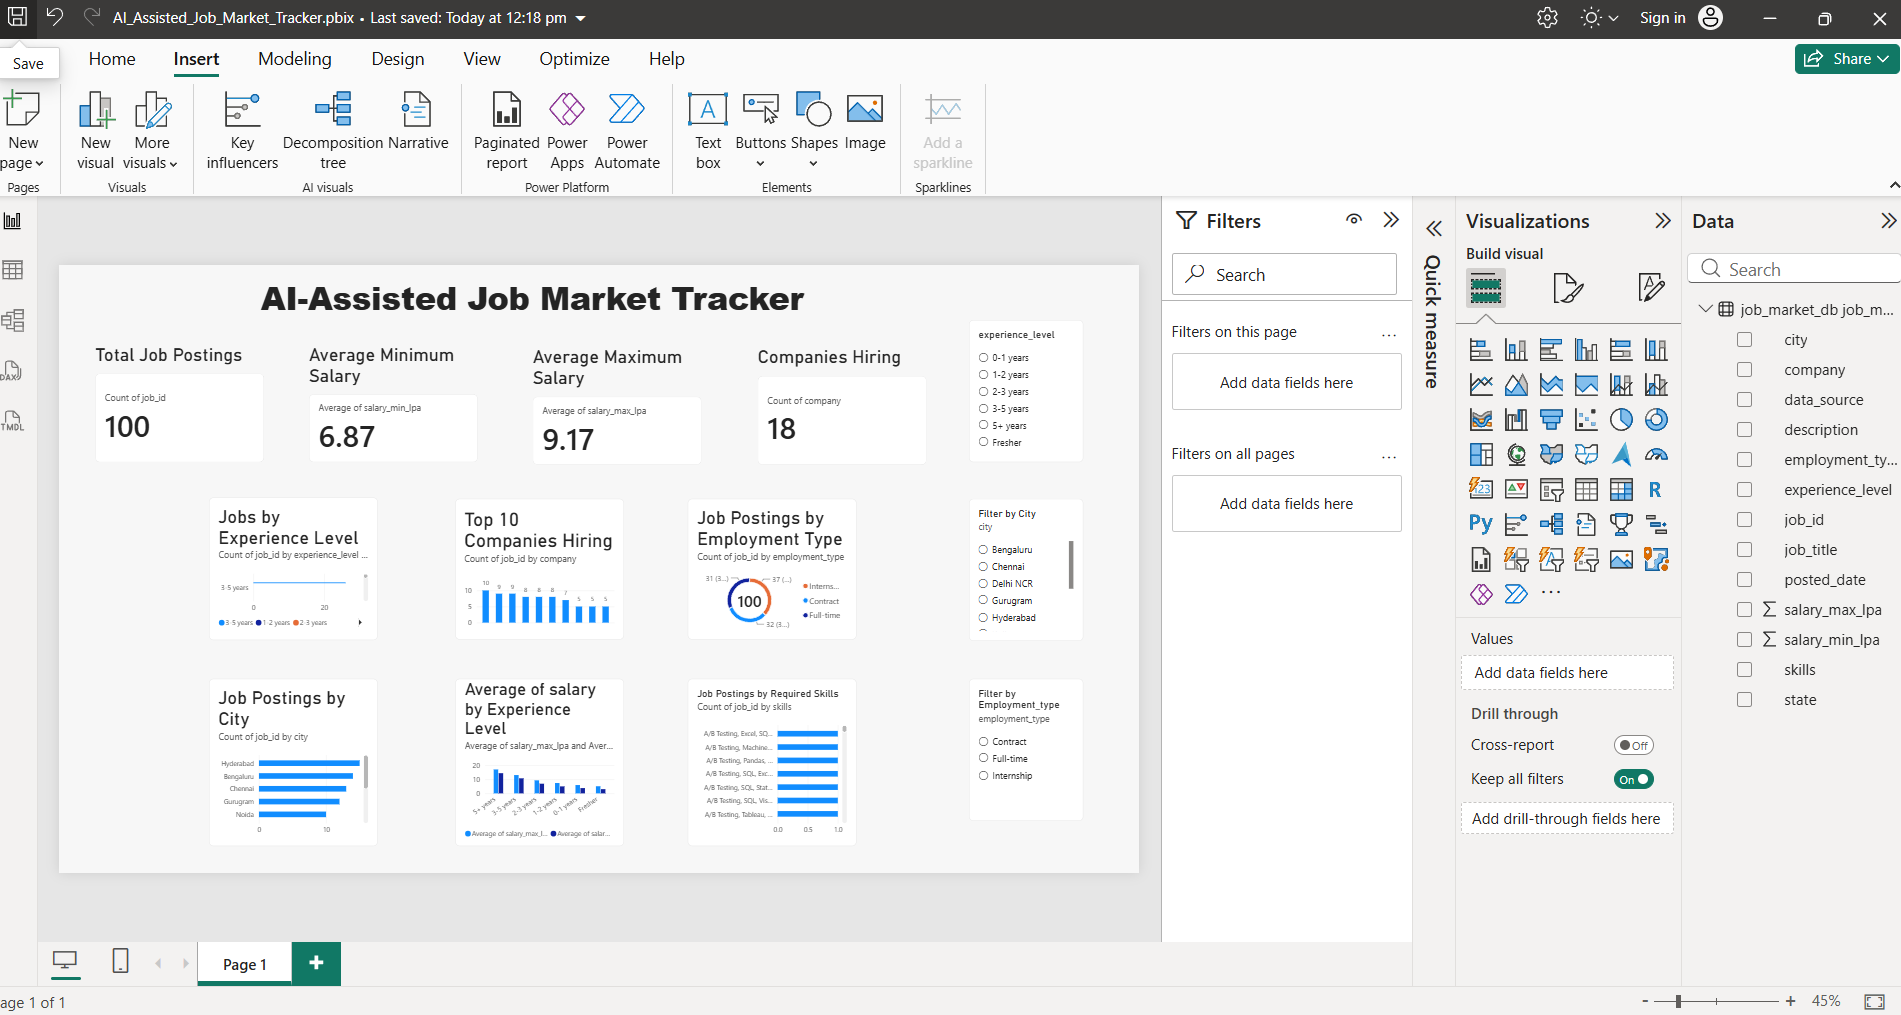

What the dashboard file says about the page in this screenshot:
{"tool":"powerbi","page":{"name":"Page 1","canvas":[1920,1080],"ordinal":0},"visuals":[{"type":"cardVisual","title":"Total Job Postings","fields":{"Data":["CountNonNull(job_market_db job_market_tracker.job_id)"]},"box":[64.4,140,300,211.1],"z":0},{"type":"cardVisual","title":"Average Minimum Salary","fields":{"Data":["Avg(job_market_db job_market_tracker.salary_min_lpa)"]},"box":[444.4,140,300,211.1],"z":1000},{"type":"cardVisual","title":"Average Maximum Salary","fields":{"Data":["Avg(job_market_db job_market_tracker.salary_max_lpa)"]},"box":[842.2,144.4,300,211.1],"z":2000},{"type":"cardVisual","title":"Companies Hiring","fields":{"Data":["Count(job_market_db job_market_tracker.company)"]},"box":[1242.2,144.4,300,211.1],"z":3000},{"type":"clusteredBarChart","title":"Jobs by Experience Level","fields":{"Category":["job_market_db job_market_tracker.experience_level"],"Series":["job_market_db job_market_tracker.experience_level"],"Y":["CountNonNull(job_market_db job_market_tracker.job_id)"]},"box":[266.7,413.3,300,253.3],"z":4000},{"type":"clusteredColumnChart","title":"Top 10 Companies Hiring","fields":{"Category":["job_market_db job_market_tracker.company"],"Y":["CountNonNull(job_market_db job_market_tracker.job_id)"]},"box":[704.4,415.6,300,250],"z":5000},{"type":"clusteredBarChart","title":"Job Postings by City","fields":{"Category":["job_market_db job_market_tracker.city"],"Y":["CountNonNull(job_market_db job_market_tracker.job_id)"]},"box":[266.7,735.6,300,297.8],"z":6000},{"type":"donutChart","title":"Job Postings by Employment Type","fields":{"Category":["job_market_db job_market_tracker.employment_type"],"Y":["CountNonNull(job_market_db job_market_tracker.job_id)"]},"box":[1117.8,415.6,300,250],"z":7000},{"type":"clusteredColumnChart","title":"Average of salary by Experience Level","fields":{"Category":["job_market_db job_market_tracker.experience_level"],"Y":["Avg(job_market_db job_market_tracker.salary_max_lpa)","Avg(job_market_db job_market_tracker.salary_min_lpa)"]},"box":[704.4,735.6,300,297.8],"z":8000},{"type":"clusteredBarChart","title":"Job Postings by Required Skills","fields":{"Category":["job_market_db job_market_tracker.skills"],"Y":["CountNonNull(job_market_db job_market_tracker.job_id)"]},"box":[1117.8,735.6,300,297.8],"z":9000},{"type":"textbox","box":[100,100,300,40],"z":15000},{"type":"textbox","title":"AI-Assisted Job Market Tracker","box":[64.4,17.8,1553.3,82.2],"z":18000},{"type":"listSlicer","fields":{"Values":["job_market_db job_market_tracker.experience_level"]},"box":[1617.8,97.8,203,253],"z":18001},{"type":"listSlicer","title":"Filter by City","fields":{"Values":["job_market_db job_market_tracker.city"]},"box":[1617.8,415.6,203,253],"z":18002},{"type":"listSlicer","title":"Filter by Employment_type","fields":{"Values":["job_market_db job_market_tracker.employment_type"]},"box":[1617.8,735.6,203,253],"z":18003}]}

Visuals, with their boxes on the page's 1920x1080 design canvas (x1, y1, x2, y2). These are canvas units, not pixel positions in the 1901x1015 screenshot, which may show the page scaled, cropped or inside an application window:
"Total Job Postings" cardVisual: box=[64, 140, 364, 351]
"Average Minimum Salary" cardVisual: box=[444, 140, 744, 351]
"Average Maximum Salary" cardVisual: box=[842, 144, 1142, 356]
"Companies Hiring" cardVisual: box=[1242, 144, 1542, 356]
"Jobs by Experience Level" clusteredBarChart: box=[267, 413, 567, 667]
"Top 10 Companies Hiring" clusteredColumnChart: box=[704, 416, 1004, 666]
"Job Postings by City" clusteredBarChart: box=[267, 736, 567, 1033]
"Job Postings by Employment Type" donutChart: box=[1118, 416, 1418, 666]
"Average of salary by Experience Level" clusteredColumnChart: box=[704, 736, 1004, 1033]
"Job Postings by Required Skills" clusteredBarChart: box=[1118, 736, 1418, 1033]
textbox: box=[100, 100, 400, 140]
"AI-Assisted Job Market Tracker" textbox: box=[64, 18, 1618, 100]
listSlicer - job_market_db job_market_tracker.experience_level: box=[1618, 98, 1821, 351]
"Filter by City" listSlicer: box=[1618, 416, 1821, 669]
"Filter by Employment_type" listSlicer: box=[1618, 736, 1821, 989]
